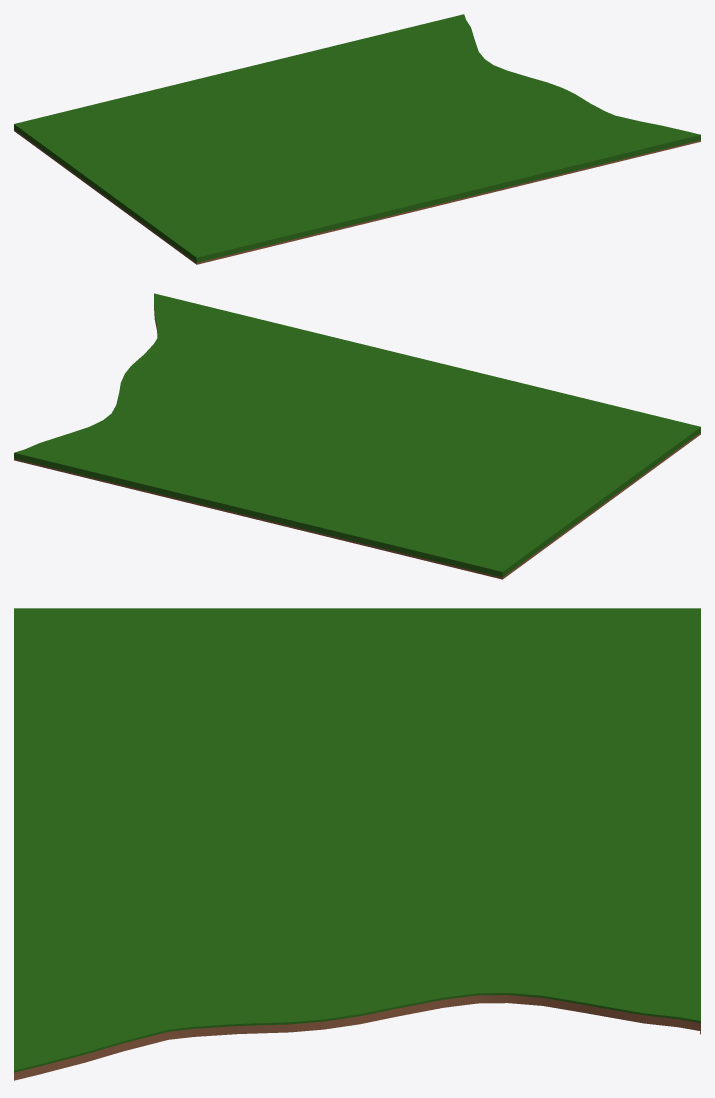
The model's file is MesaMitadGrande.fbx.
3 renders of one model, top to bottom at view 1: azimuth 30°, elevation 25°; view 2: azimuth 150°, elevation 25°; view 3: azimuth 270°, elevation 25°, orthographic. The views are drawn at different scales.
Parts seen in each view (by area): view 1: Table; view 2: Table; view 3: Table.
Boxes of the visible parts, left/top/right/bottom form: Table: left=14, top=14, right=700, bottom=264; Table: left=14, top=293, right=700, bottom=579; Table: left=14, top=608, right=700, bottom=1080.
Size of the model in its own units: 2882 by 38.49 by 1810.
